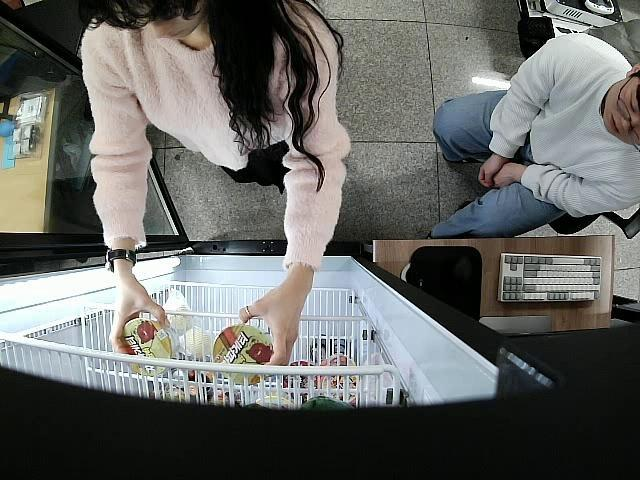04_chapagetti_S: (212, 326, 276, 382), (122, 317, 182, 376)
